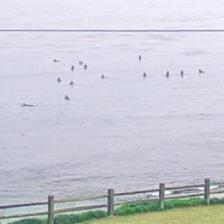surfer: (22, 104, 34, 108), (198, 68, 205, 74), (56, 77, 62, 83), (64, 94, 70, 100), (165, 70, 170, 77), (100, 73, 105, 79), (70, 64, 75, 70), (84, 63, 88, 70), (53, 58, 60, 62), (78, 60, 83, 65), (180, 70, 184, 76), (143, 72, 147, 78), (70, 80, 74, 85), (139, 54, 142, 60)
